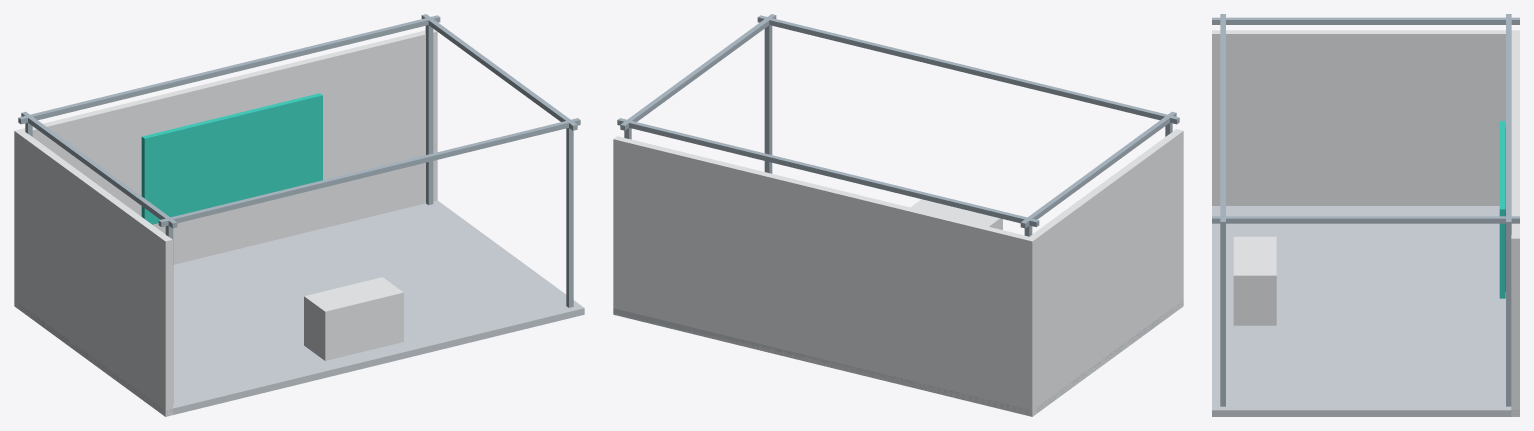
3 renders of one model, left to right at view 1: azimuth 30°, elevation 25°; view 2: azimuth 150°, elevation 25°; view 3: azimuth 270°, elevation 25°, orthographic.
Visible parts, largest first — view 1: Exhibition Booth Concept; view 2: Exhibition Booth Concept; view 3: Exhibition Booth Concept.
Boxes of the visible parts, left/top/right/bottom form: Exhibition Booth Concept: left=14, top=14, right=584, bottom=416; Exhibition Booth Concept: left=613, top=14, right=1183, bottom=416; Exhibition Booth Concept: left=1212, top=14, right=1519, bottom=416.
Size of the model in its own units: 8 by 3.49 by 5.
